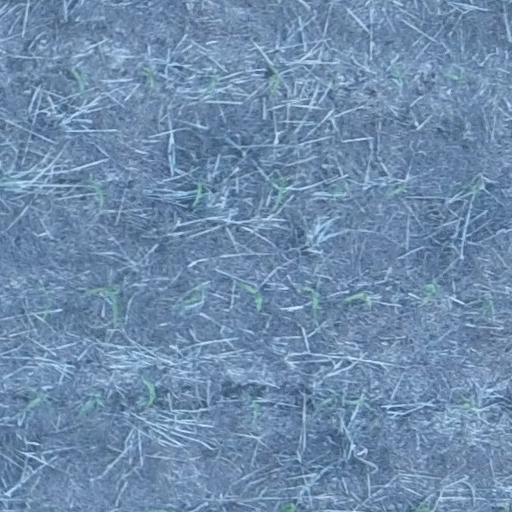planta: (86, 285, 118, 326), (238, 283, 264, 310), (295, 285, 320, 313), (268, 175, 284, 213), (417, 281, 438, 308), (140, 378, 158, 406), (79, 396, 104, 416), (267, 63, 282, 96), (67, 69, 86, 94), (88, 178, 104, 206), (181, 286, 203, 306), (24, 391, 47, 410), (344, 292, 371, 308), (139, 66, 156, 91), (189, 180, 203, 208), (459, 395, 476, 410)
